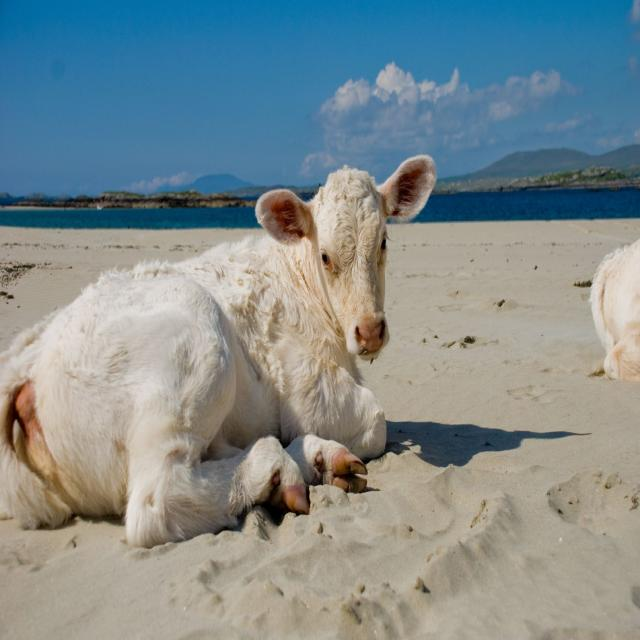cow: (0, 157, 435, 546)
